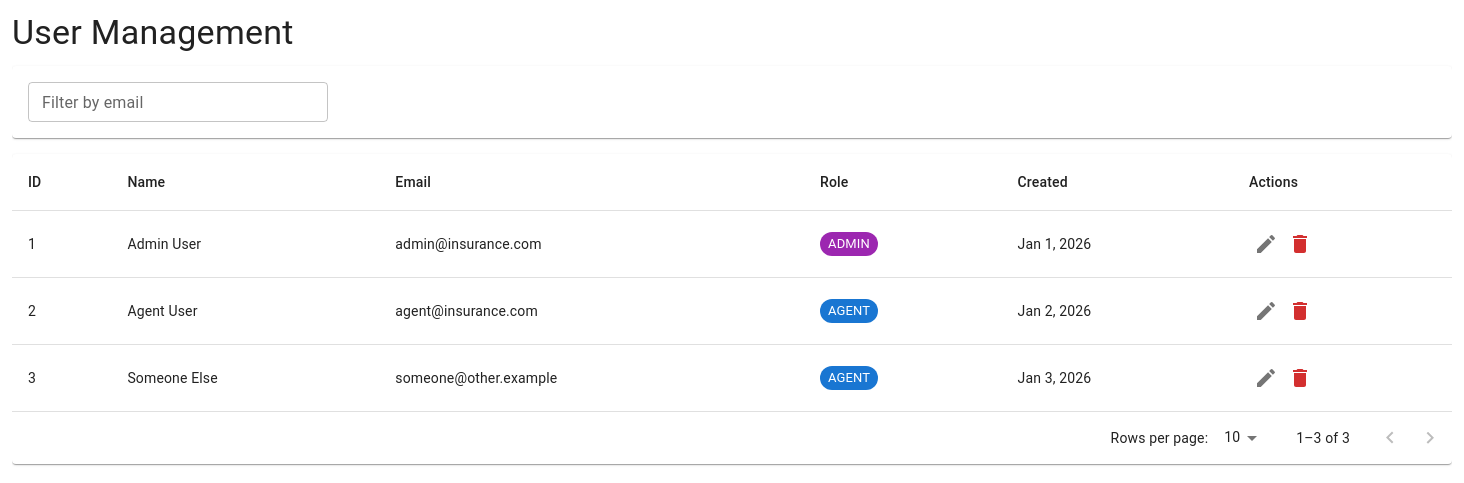
Test case: UserManagement email filter › restores the full list when the filter is cleared
The image size is (1464, 483).
Check: the text "someone@other.example" is shown, box [379,344,804,411]
Step 1. Type "agent" into the field labelled "Filter by email" → (178, 102), box [28,82,328,122]
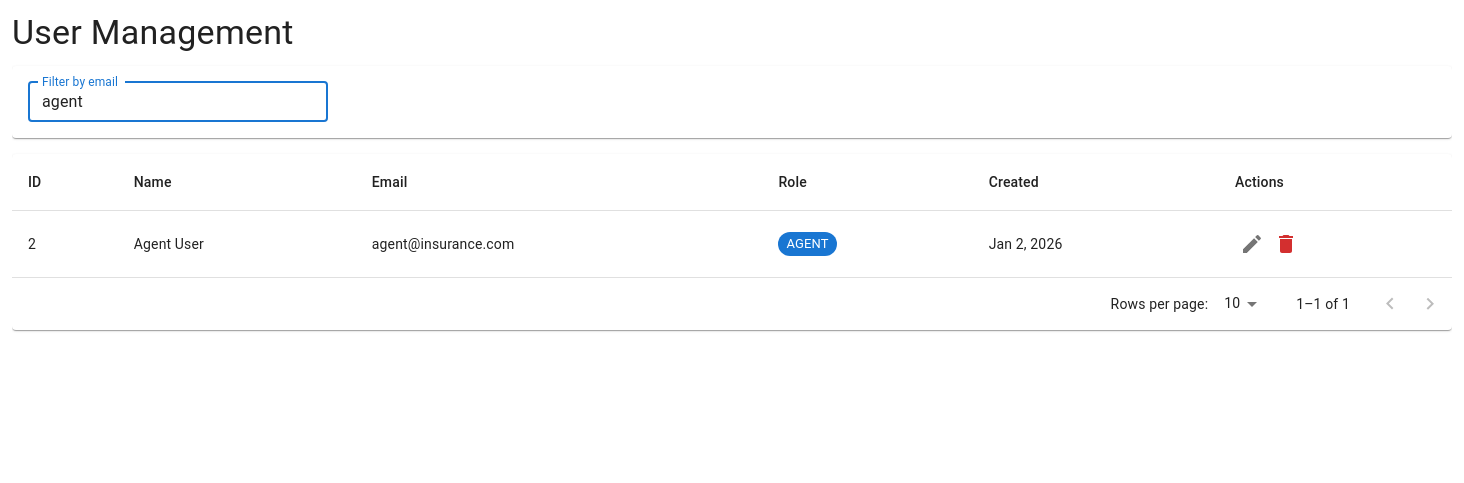
Check: the text "someone@other.example" is gone
Step 2. Clear the field labelled "Filter by email" → (178, 102), box [28,82,328,122]
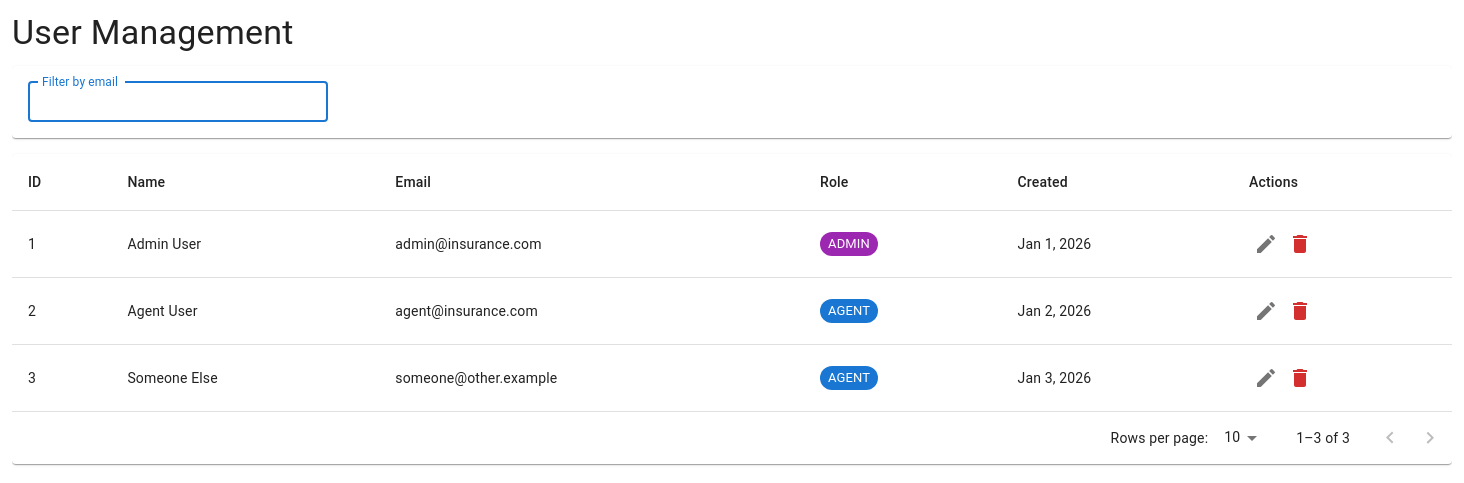
Check: the text "agent@insurance.com" is shown, box [379,277,804,344]
Check: the text "someone@other.example" is shown, box [379,344,804,411]
Check: the text "admin@insurance.com" is shown, box [379,210,804,277]
